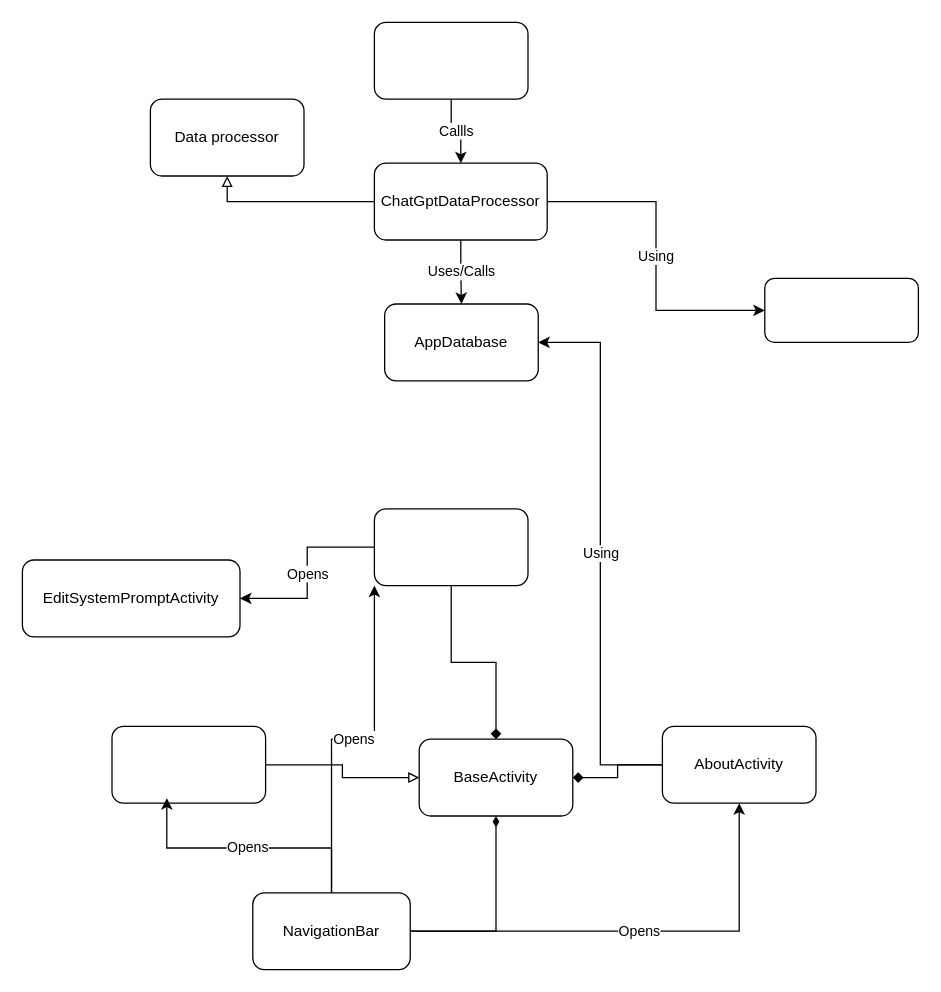
The diagram is 941 pixels wide and 992 high, and some of its shapes have lost their labels. The shapes that lost their labels are listed below. From the top down, each one's centre as x and y in pixels, then its label:
[450,60]: Notification service
[841,309]: LLMUtils
[450,547]: SettingsActivity
[188,764]: MainActivity
